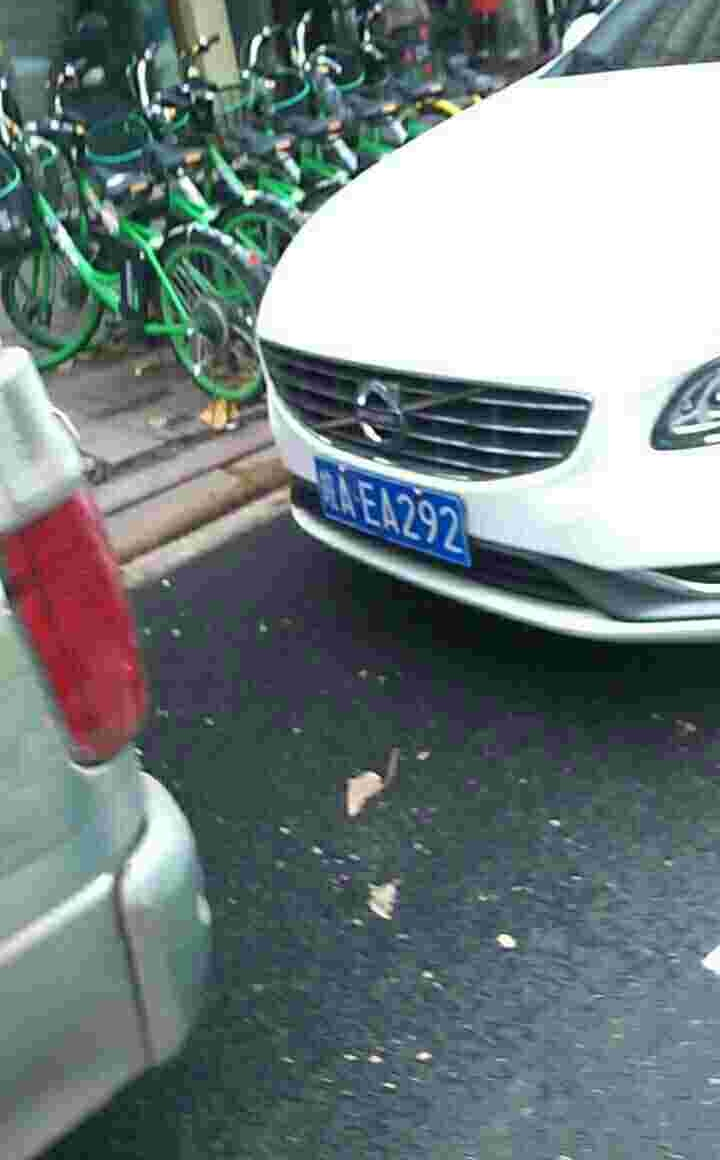license_plate: (315, 465, 476, 553)
